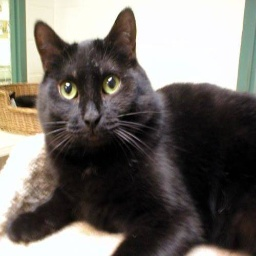cat: (11, 16, 256, 249)
